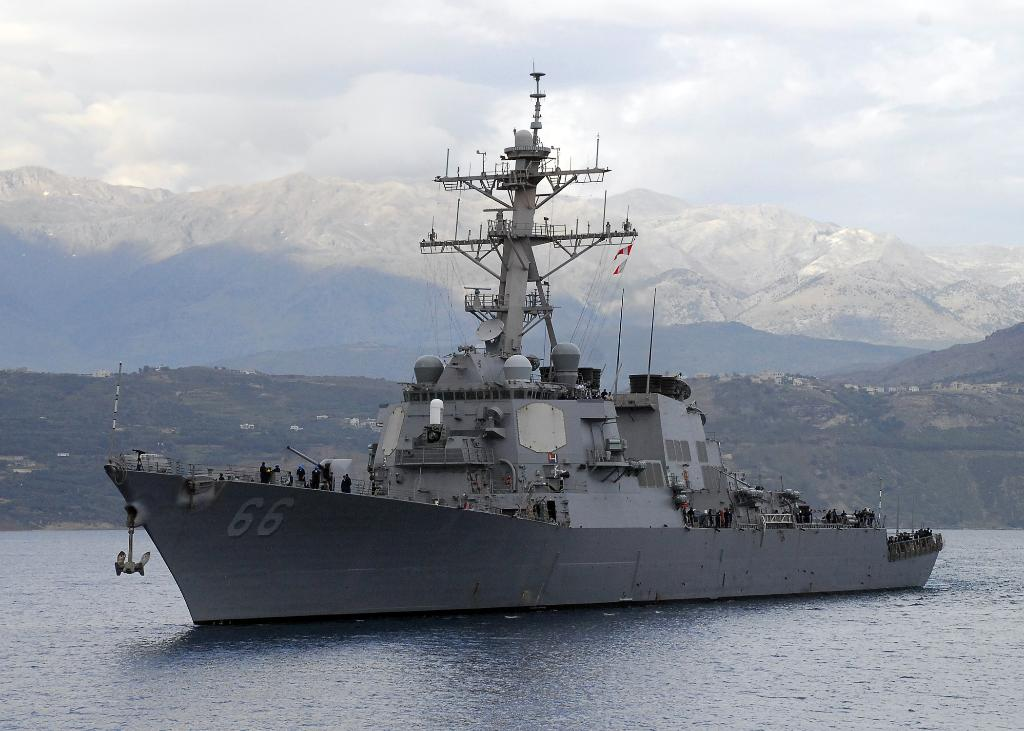Warship: (100, 50, 942, 636)
